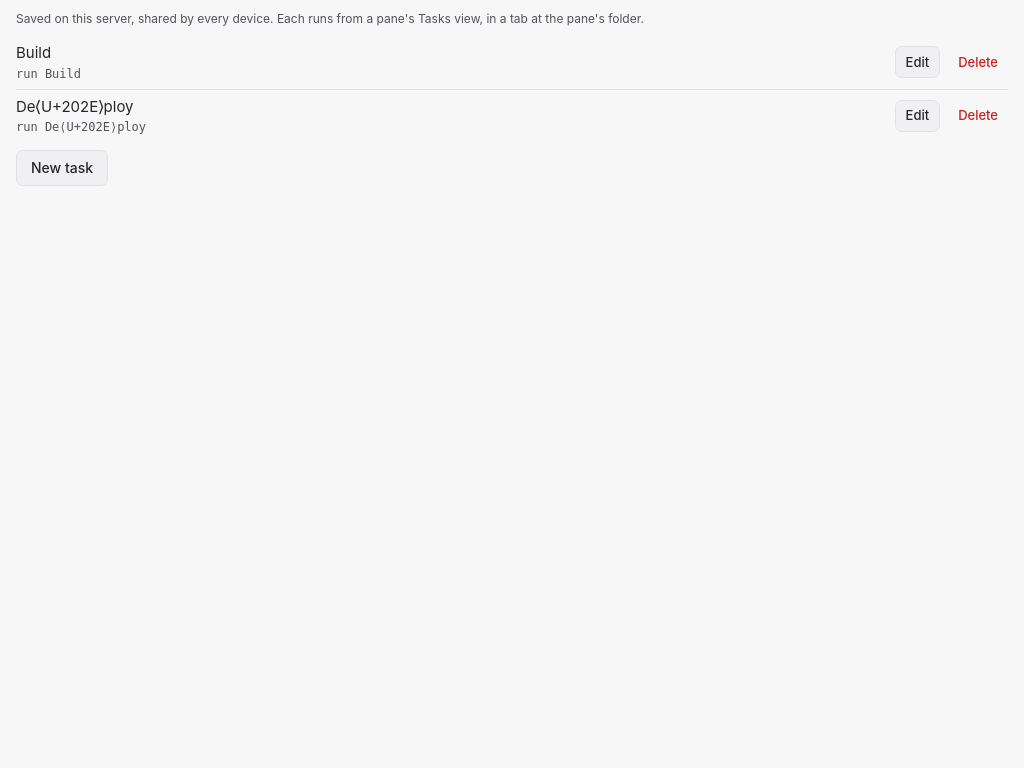
it: UserTasksSection › a conflict that carries no task is told, not asked again
Step 1. Click the button with aria-label "Delete Build" → (978, 62), box top-left (948, 46), bottom-right (1008, 78)
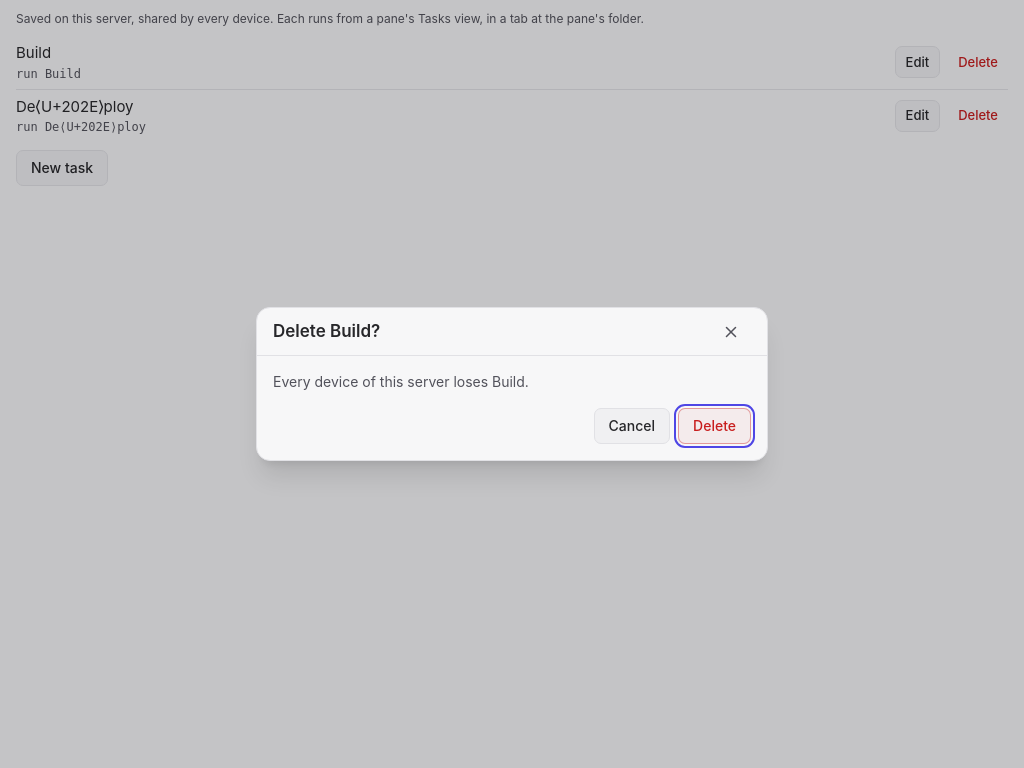
Step 2. Click the button "Delete" → (715, 426), box top-left (678, 408), bottom-right (751, 444)
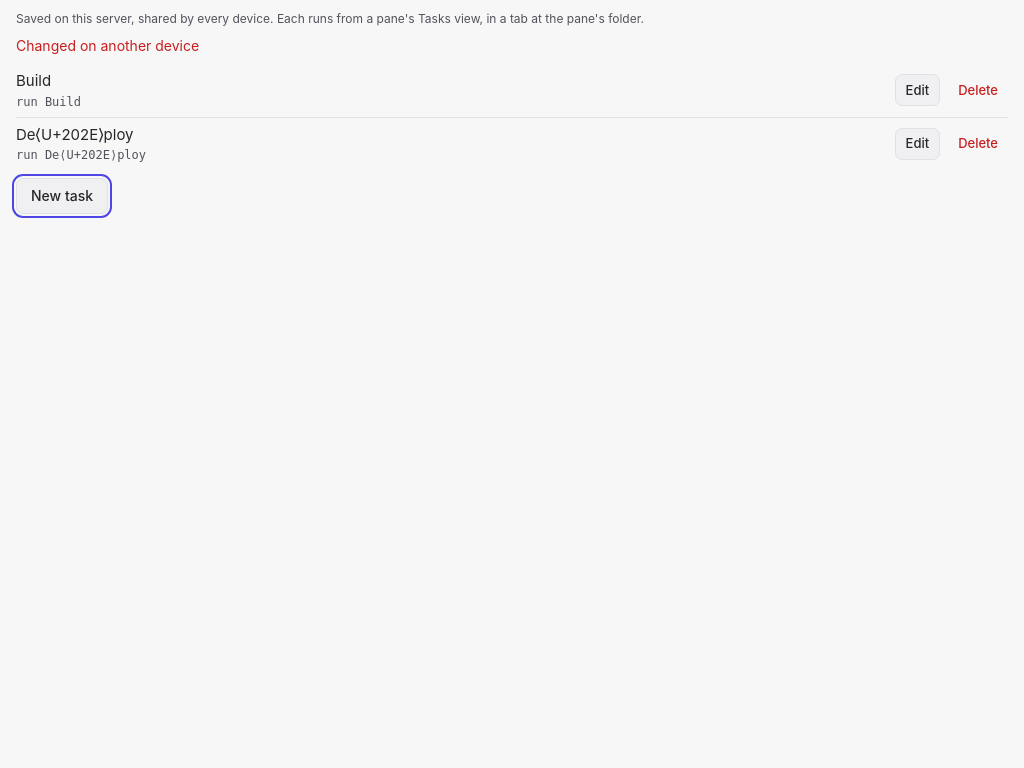
Check: the dialog is gone
Check: the message reads "Changed on another device", box top-left (16, 37), bottom-right (199, 54)
